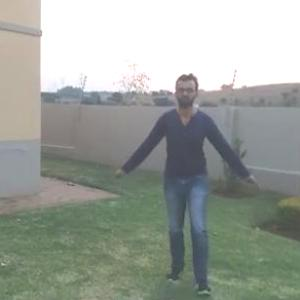land: (120, 68, 262, 286)
